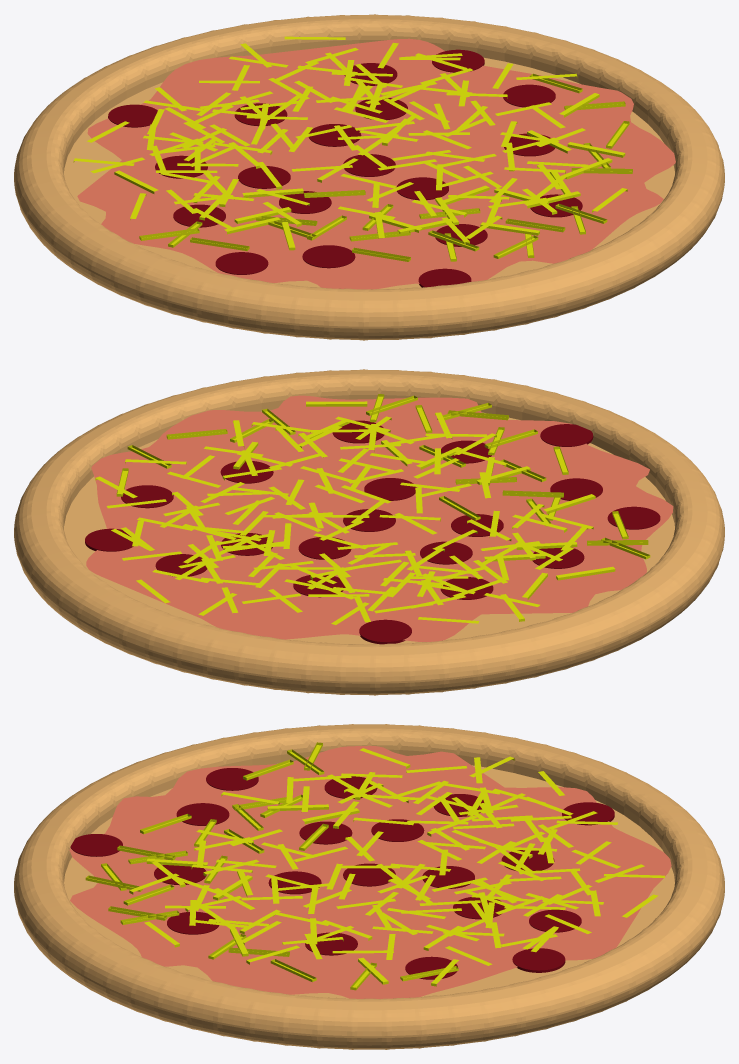
File: pwsc.fbx
3 renders of one model, top to bottom at view 1: azimuth 30°, elevation 25°; view 2: azimuth 150°, elevation 25°; view 3: azimuth 270°, elevation 25°, orthographic.
Parts seen in each view (by area): view 1: pwsc; view 2: pwsc; view 3: pwsc.
Boxes of the visible parts, x1,y1,x2,y2 form: pwsc: (14, 14, 724, 340); pwsc: (14, 369, 724, 695); pwsc: (14, 724, 724, 1049).
Size of the model in its own units: 232 by 17.89 by 232.
